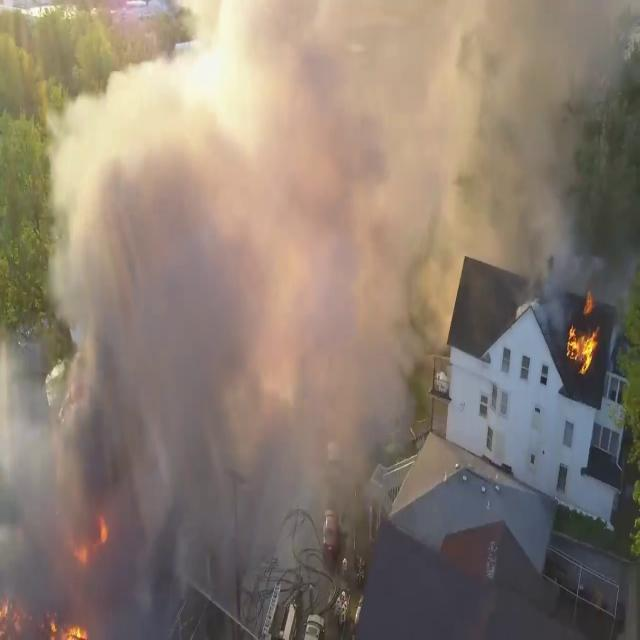Fire: (564, 308, 602, 376)
Smoke: (0, 0, 636, 612)
